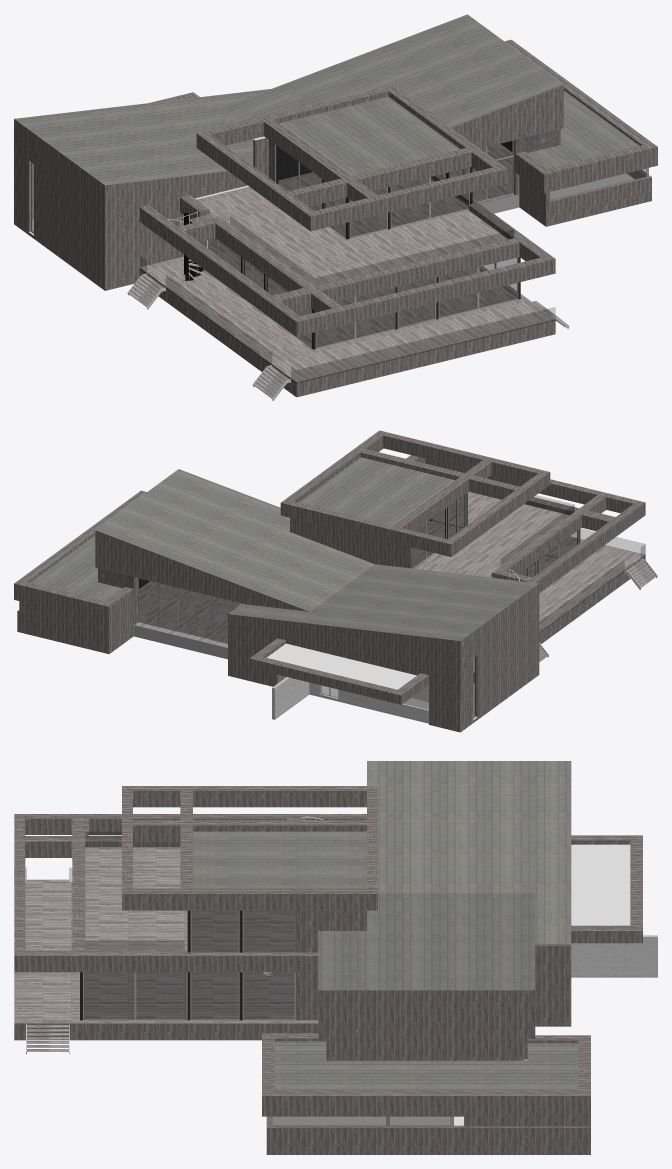
Rendered from OzeraCafeAR.glb.
3 renders of one model, top to bottom at view 1: azimuth 30°, elevation 25°; view 2: azimuth 150°, elevation 25°; view 3: azimuth 270°, elevation 25°, orthographic. The views are drawn at different scales.
Visible parts, largest first — view 1: _3DGeom234, _3DGeom71314, _3DGeom478, _3DGeom163132, _3DGeom5910, _3DGeom112, _3DGeom356, _3DGeom81516, _3DGeom152930; view 2: _3DGeom234, _3DGeom71314, _3DGeom478, _3DGeom163132, _3DGeom112, _3DGeom101920, _3DGeom5910, _3DGeom81516; view 3: _3DGeom234, _3DGeom71314, _3DGeom478, _3DGeom163132, _3DGeom112, _3DGeom101920, _3DGeom5910, _3DGeom152930.
Boxes of the visible parts, left/top/right/bottom form: _3DGeom234: left=14, top=39, right=657, bottom=397; _3DGeom71314: left=14, top=14, right=639, bottom=185; _3DGeom478: left=128, top=144, right=564, bottom=398; _3DGeom163132: left=31, top=141, right=646, bottom=383; _3DGeom5910: left=30, top=140, right=648, bottom=348; _3DGeom112: left=29, top=136, right=645, bottom=279; _3DGeom356: left=276, top=141, right=512, bottom=183; _3DGeom81516: left=515, top=129, right=560, bottom=153; _3DGeom152930: left=241, top=167, right=520, bottom=349; _3DGeom234: left=14, top=430, right=645, bottom=732; _3DGeom71314: left=30, top=457, right=538, bottom=640; _3DGeom478: left=134, top=491, right=656, bottom=661; _3DGeom163132: left=139, top=495, right=645, bottom=716; _3DGeom112: left=133, top=569, right=519, bottom=732; _3DGeom101920: left=272, top=675, right=428, bottom=723; _3DGeom5910: left=133, top=508, right=579, bottom=718; _3DGeom81516: left=98, top=568, right=133, bottom=592; _3DGeom234: left=14, top=786, right=642, bottom=1154; _3DGeom71314: left=193, top=761, right=578, bottom=1089; _3DGeom478: left=14, top=847, right=318, bottom=1051; _3DGeom163132: left=25, top=832, right=449, bottom=1125; _3DGeom112: left=263, top=816, right=630, bottom=1125; _3DGeom101920: left=571, top=935, right=657, bottom=977; _3DGeom5910: left=83, top=910, right=453, bottom=1126; _3DGeom152930: left=80, top=910, right=242, bottom=1020.
Size of the model in its own units: 43.98 by 11.12 by 43.14.
33 materials, 19 textured.
